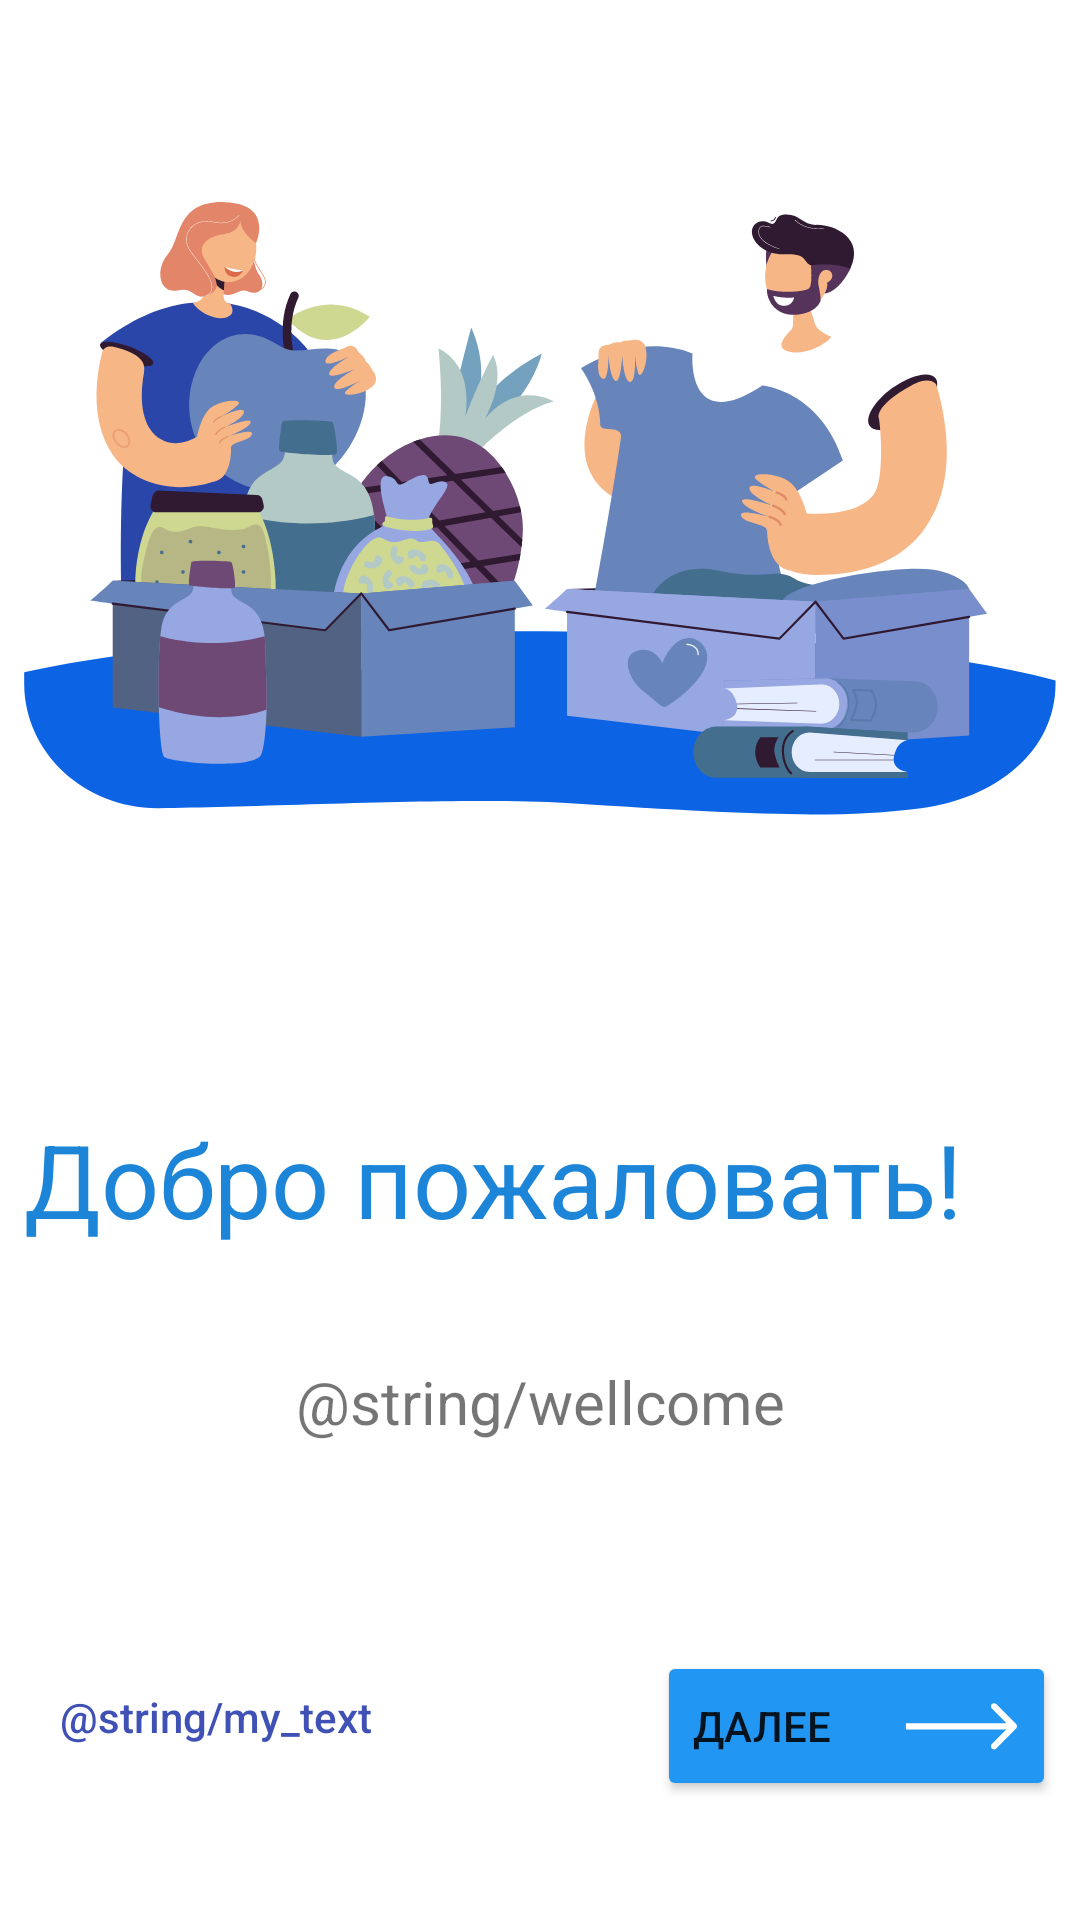

Icon click points for this 1080px×1920px phone screenshot, format (x=x, y=y):
arrow: (x=961, y=1726)
